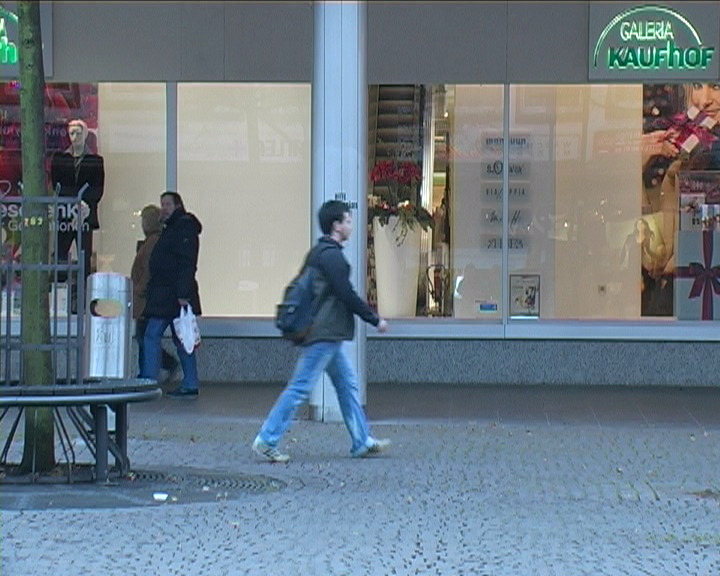deflection: (148, 189, 209, 277)
